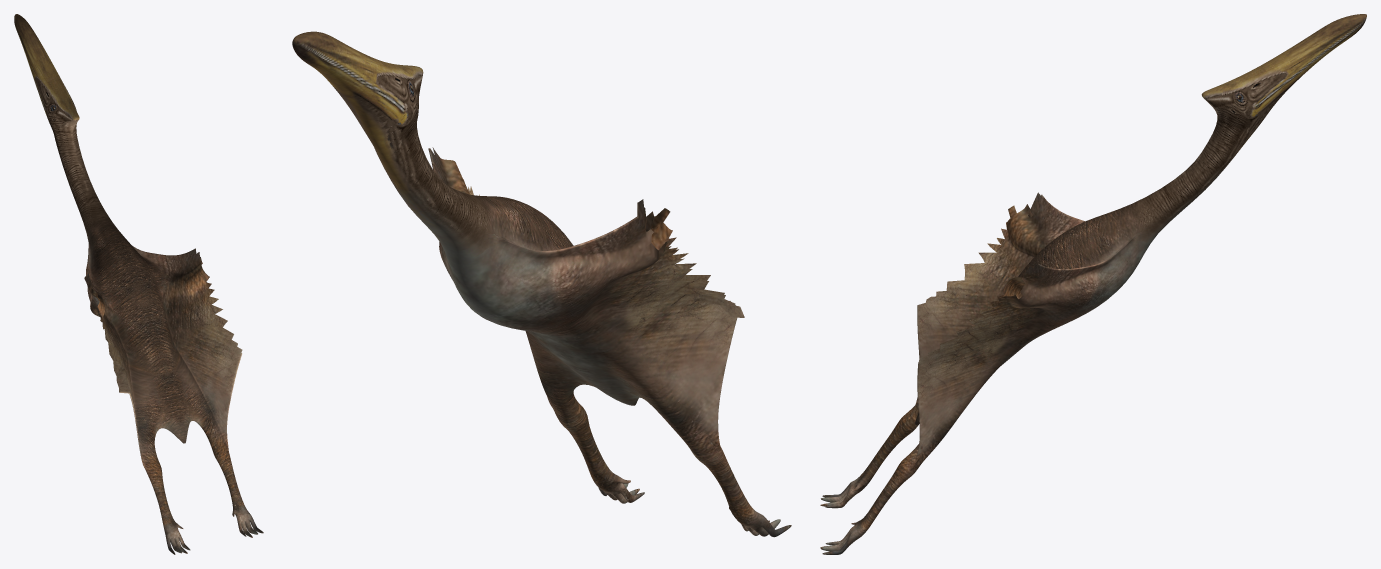
The model's file is QuetzalCentro.obj.
The picture shows the model from 3 angles, left to right: view 1: azimuth 30°, elevation 25°; view 2: azimuth 150°, elevation 25°; view 3: azimuth 270°, elevation 25°; orthographic projection. The views are drawn at different scales.
Parts seen in each view (by area): view 1: 13623_Quetzalcoatlus; view 2: 13623_Quetzalcoatlus; view 3: 13623_Quetzalcoatlus.
Part boxes in pixels (x1,y1,x2,y2): 13623_Quetzalcoatlus: (14,14,263,554); 13623_Quetzalcoatlus: (292,31,791,537); 13623_Quetzalcoatlus: (820,14,1366,554).
Bounding box in the file's own units: 75.94 × 233 × 225.
Materials: 1 (1 with a texture image).
